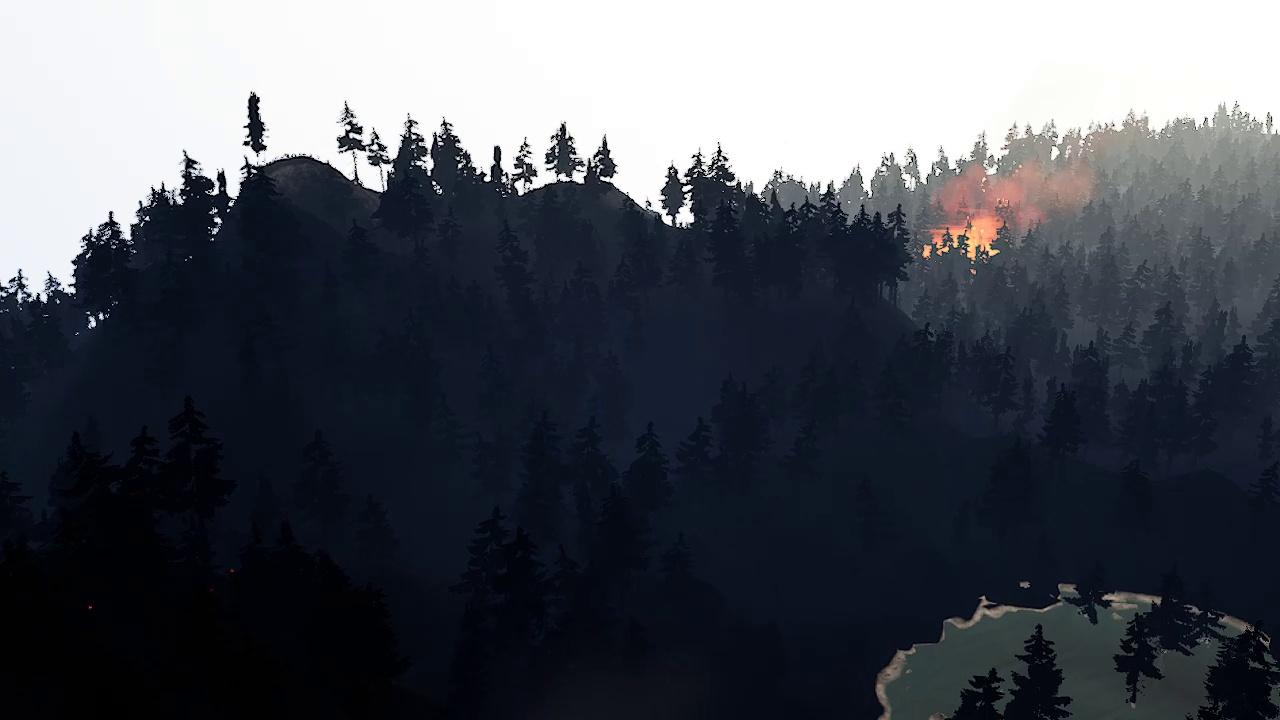fire: (924, 216, 1001, 269)
smoke: (935, 105, 1125, 235)
